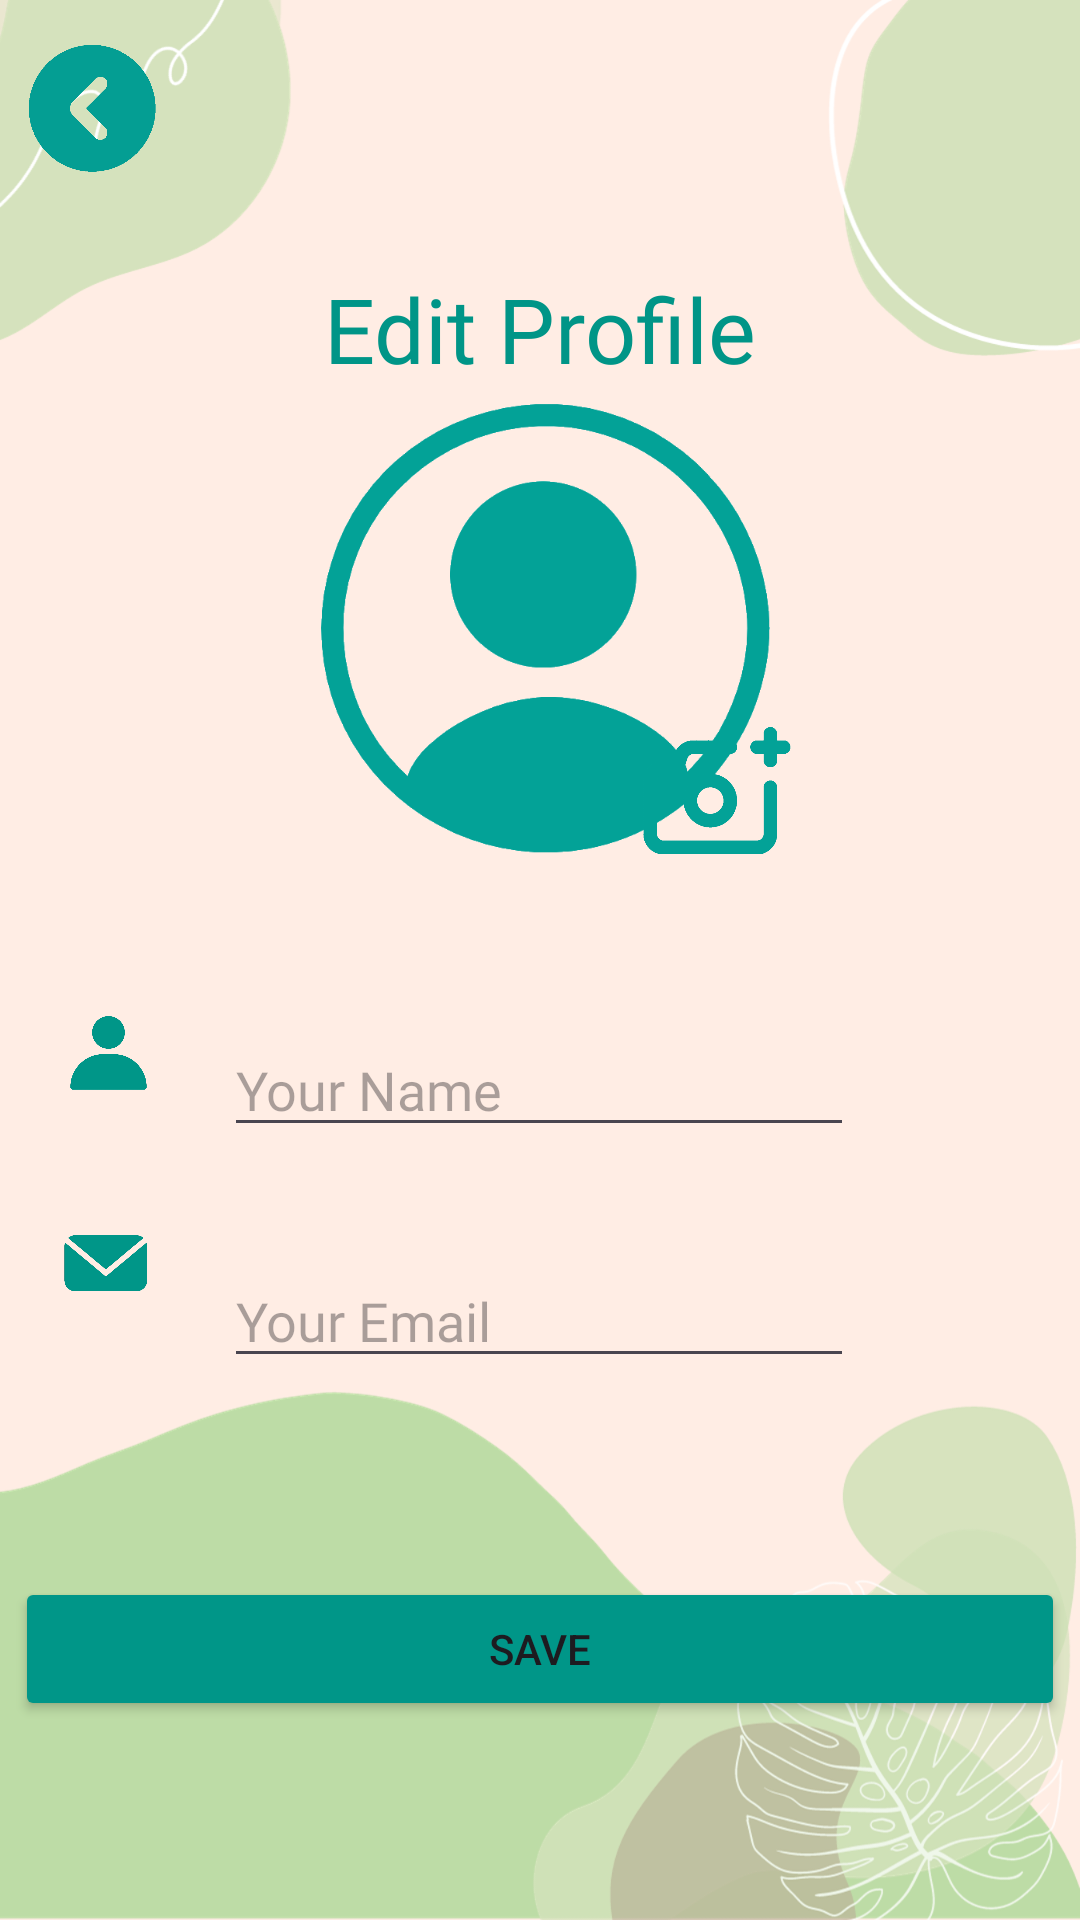

Where to tap for icons on this 1080px x 1920px app screen, as (x=x, y=y):
backicon: (x=92, y=110)
